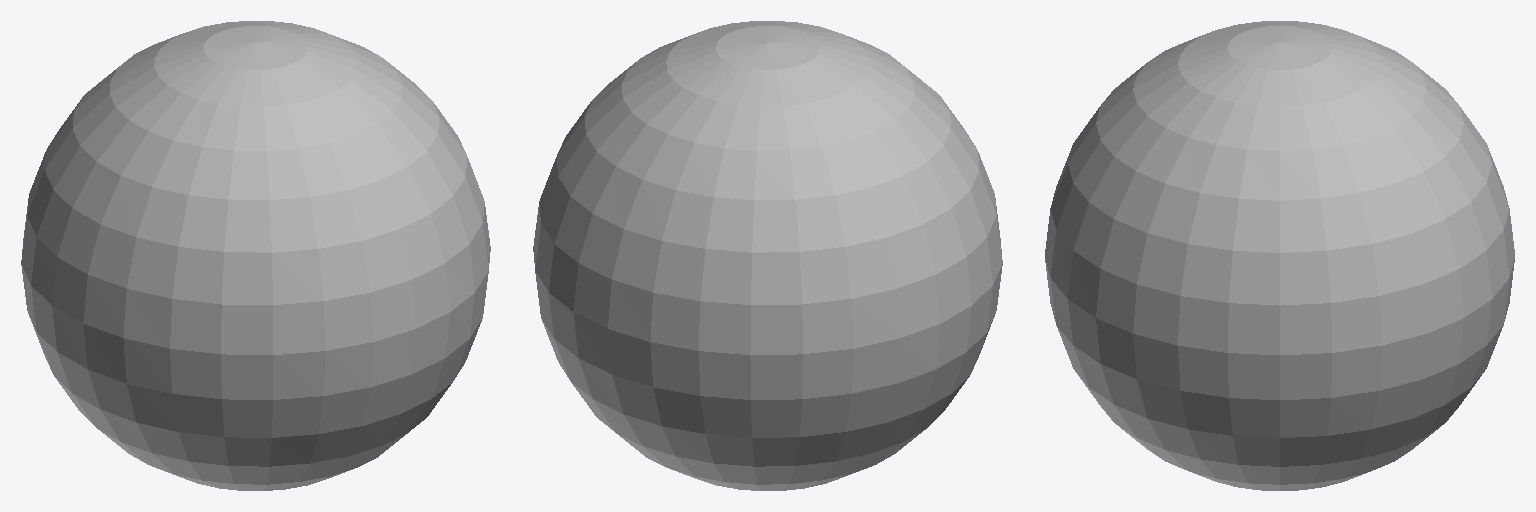
File: Ball1.obj
The picture shows the model from 3 angles: view 1: azimuth 30°, elevation 25°; view 2: azimuth 150°, elevation 25°; view 3: azimuth 270°, elevation 25°; orthographic projection.
Visible parts, largest first — view 1: Empty_Mesh_Mesh; view 2: Empty_Mesh_Mesh; view 3: Empty_Mesh_Mesh.
Boxes of the visible parts, <box> form: Empty_Mesh_Mesh: <box>21,21,490,490</box>; Empty_Mesh_Mesh: <box>533,21,1002,490</box>; Empty_Mesh_Mesh: <box>1045,21,1514,490</box>.
Bounding box in the file's own units: 0.0023 × 0.0023 × 0.0023.